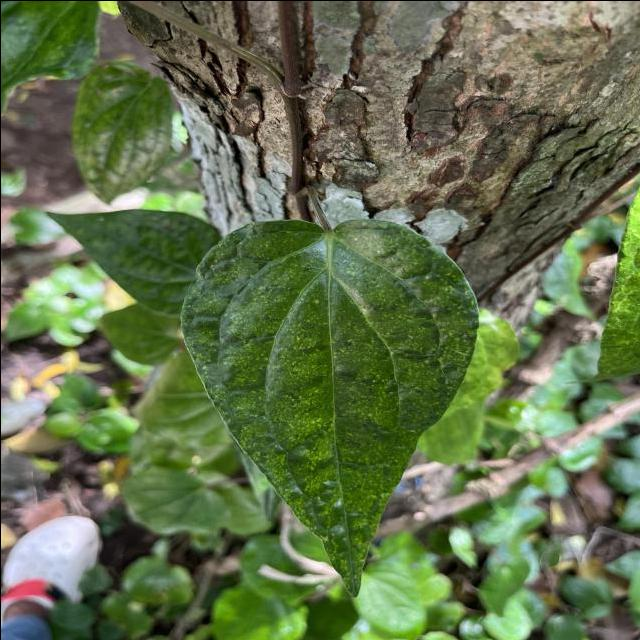Piper betle: (175, 215, 483, 600)
